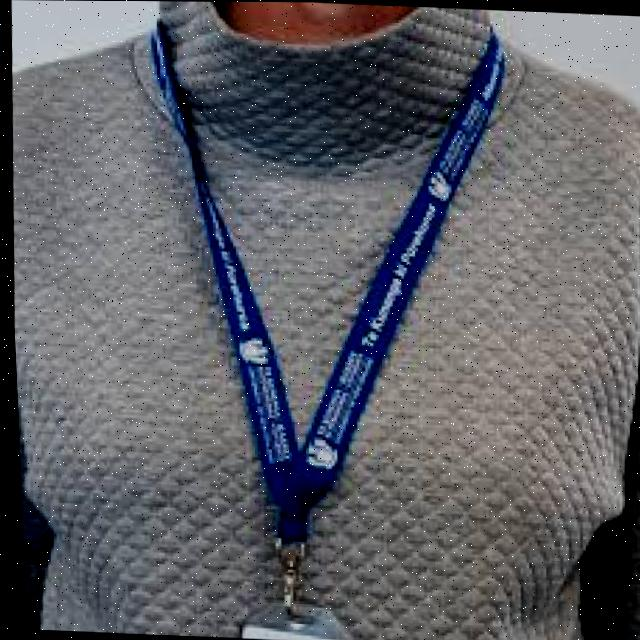id_card: (114, 28, 526, 640)
